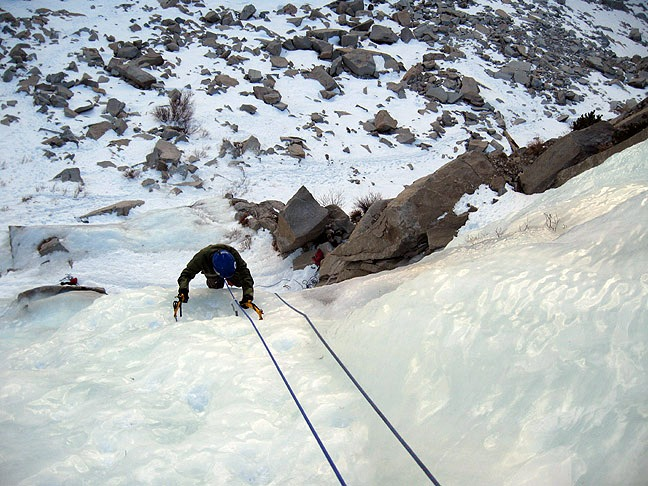helmet: (208, 248, 240, 281)
